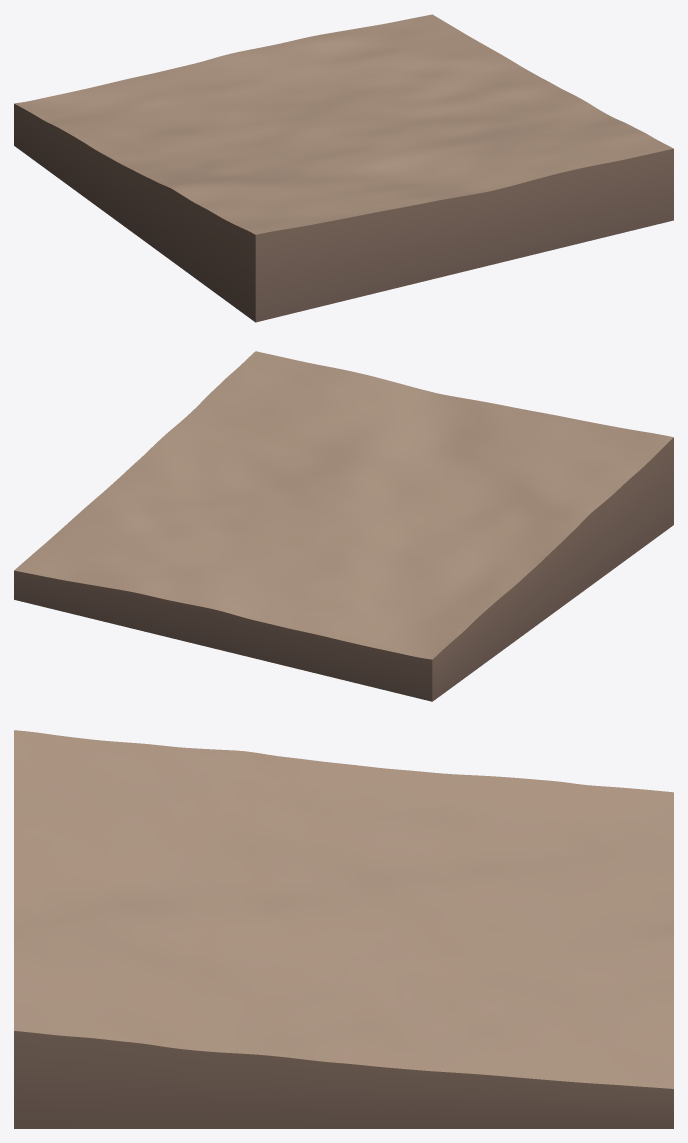
The model's file is wp4-contact.glb.
3 views of the same model, one above another, from view 1: azimuth 30°, elevation 25°; view 2: azimuth 150°, elevation 25°; view 3: azimuth 270°, elevation 25° (orthographic). The views are drawn at different scales.
Visible parts, largest first — view 1: wp4-contact; view 2: wp4-contact; view 3: wp4-contact.
Boxes of the visible parts, box(x1,y1,x2,y2) form: wp4-contact: box(14, 14, 673, 322); wp4-contact: box(14, 351, 673, 701); wp4-contact: box(14, 730, 673, 1128).
Size of the model in its own units: 60.01 by 12.03 by 60.01.
